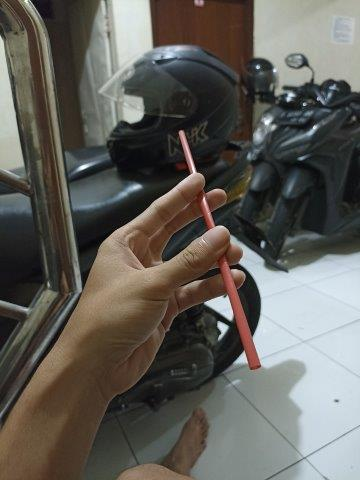sedotan: (179, 130, 261, 370)
